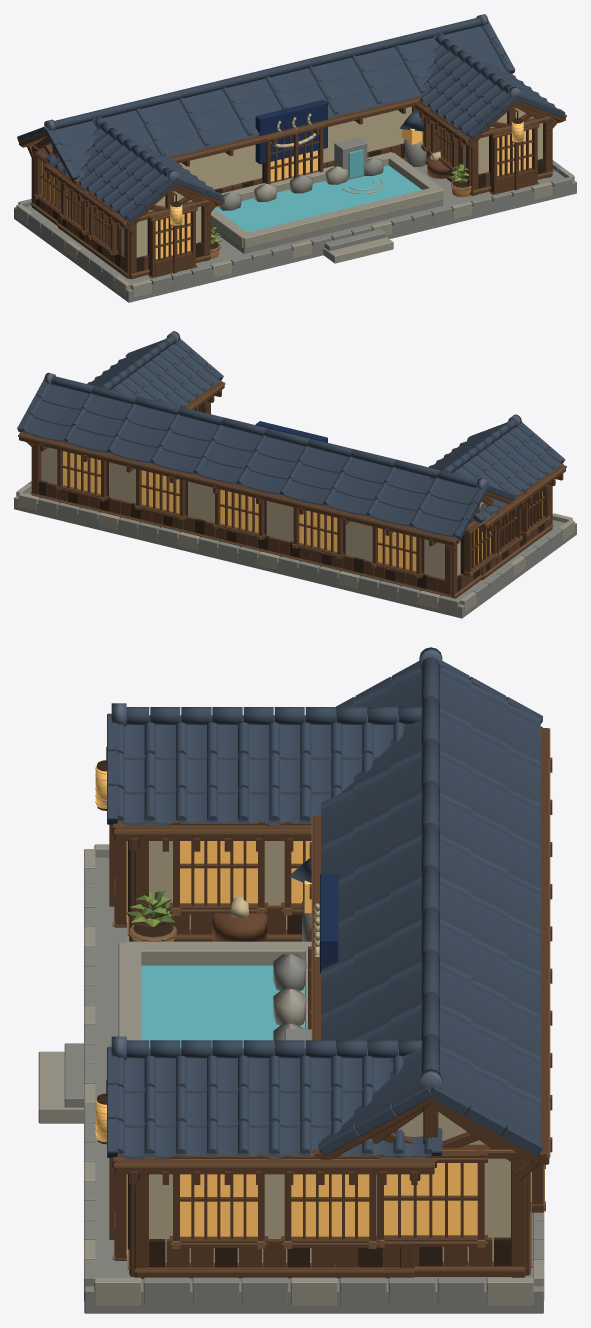
3 views of the same model, one above another, from view 1: azimuth 30°, elevation 25°; view 2: azimuth 150°, elevation 25°; view 3: azimuth 270°, elevation 25° (orthographic). The views are drawn at different scales.
Visible parts, largest first — view 1: compact_onsen_1_geometry, compact_onsen_1_geometry ceramic; view 2: compact_onsen_1_geometry, compact_onsen_1_geometry ceramic; view 3: compact_onsen_1_geometry ceramic, compact_onsen_1_geometry.
Part boxes in pixels (x1=…): compact_onsen_1_geometry: x1=14, y1=73, x2=576, y2=302; compact_onsen_1_geometry ceramic: x1=17, y1=14, x2=565, y2=222; compact_onsen_1_geometry: x1=14, y1=344, x2=576, y2=618; compact_onsen_1_geometry ceramic: x1=17, y1=331, x2=565, y2=539; compact_onsen_1_geometry ceramic: x1=107, y1=647, x2=542, y2=1158; compact_onsen_1_geometry: x1=38, y1=726, x2=552, y2=1313.
Bounding box in the file's own units: 2.06 × 0.5126 × 1.02.
